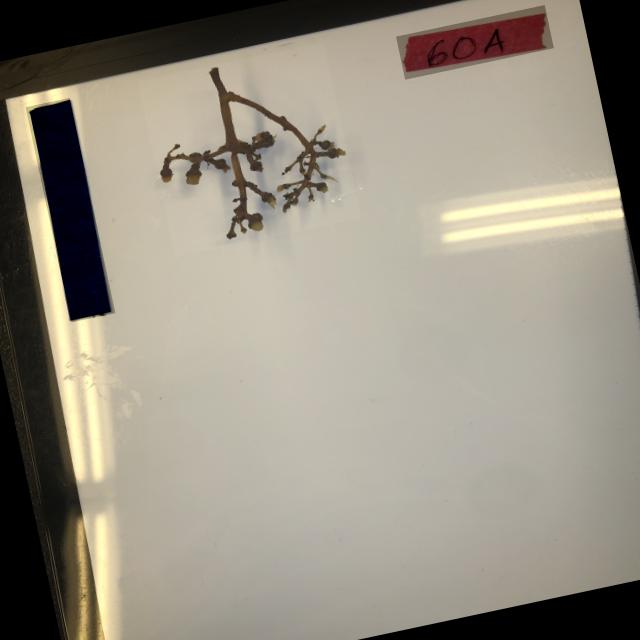measure_label: (25, 97, 115, 322)
rachis_cluster: (137, 41, 360, 257), (396, 5, 554, 80)
